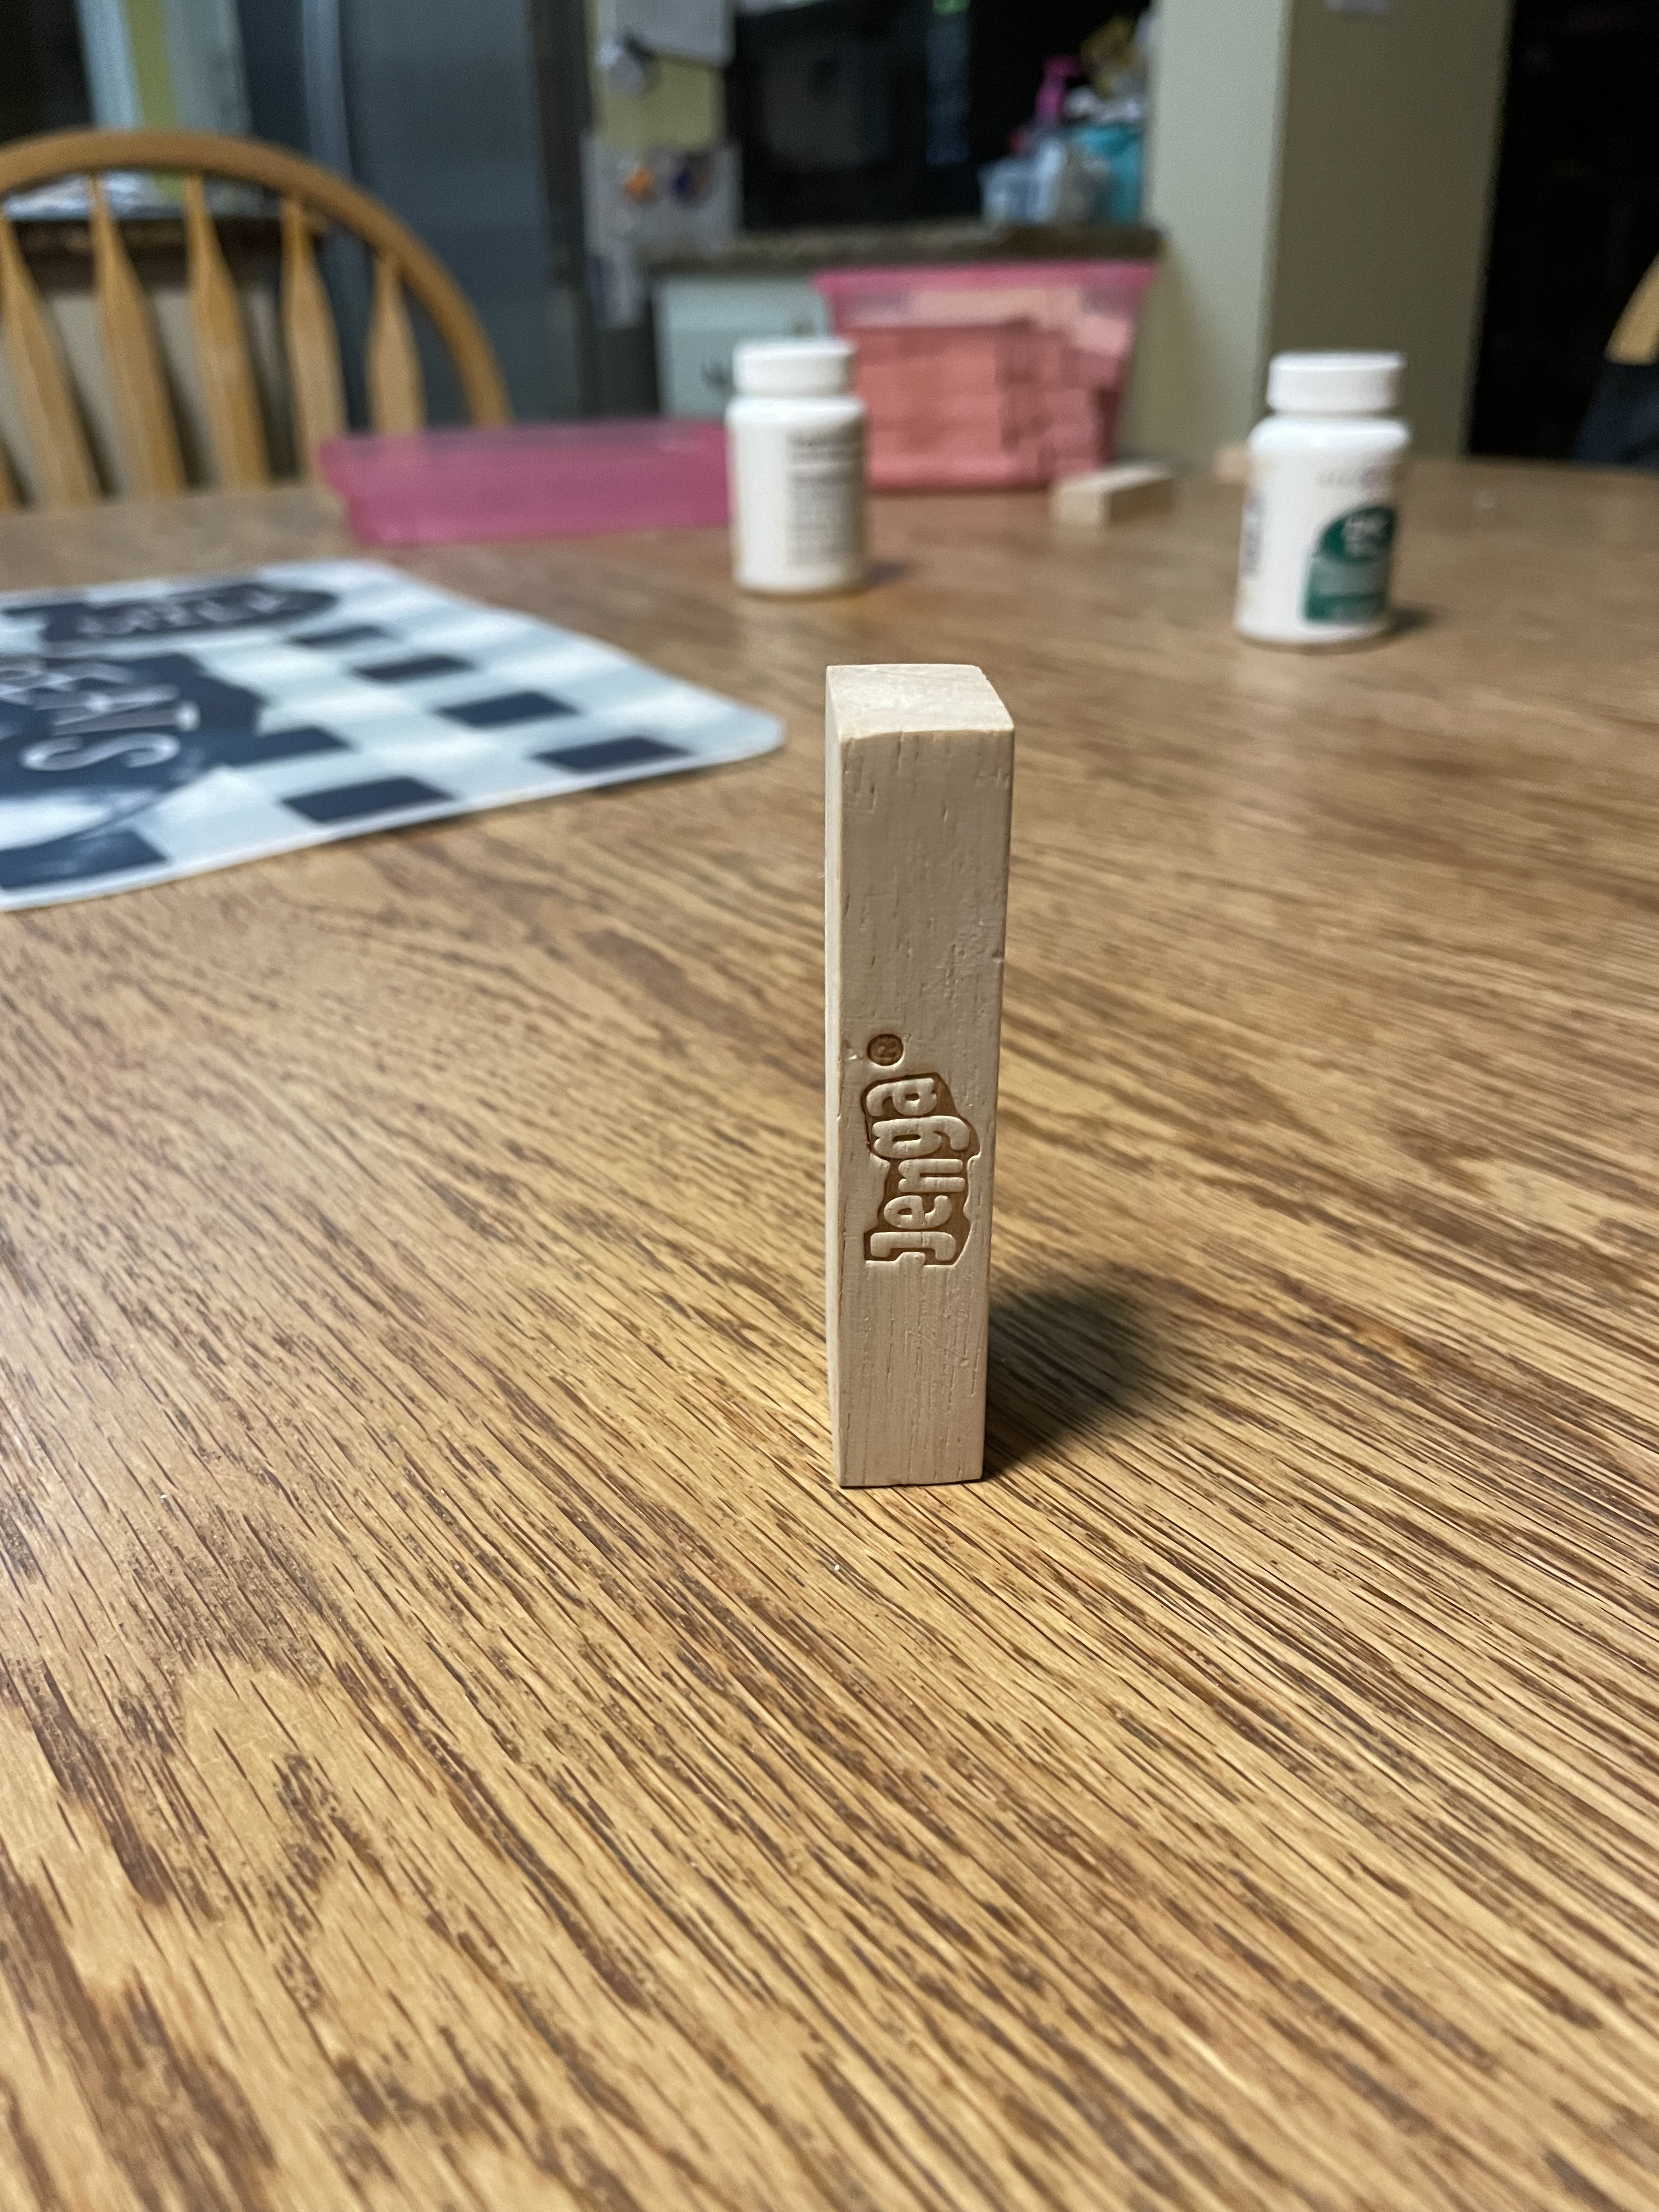jenga: (816, 664, 1018, 1484)
